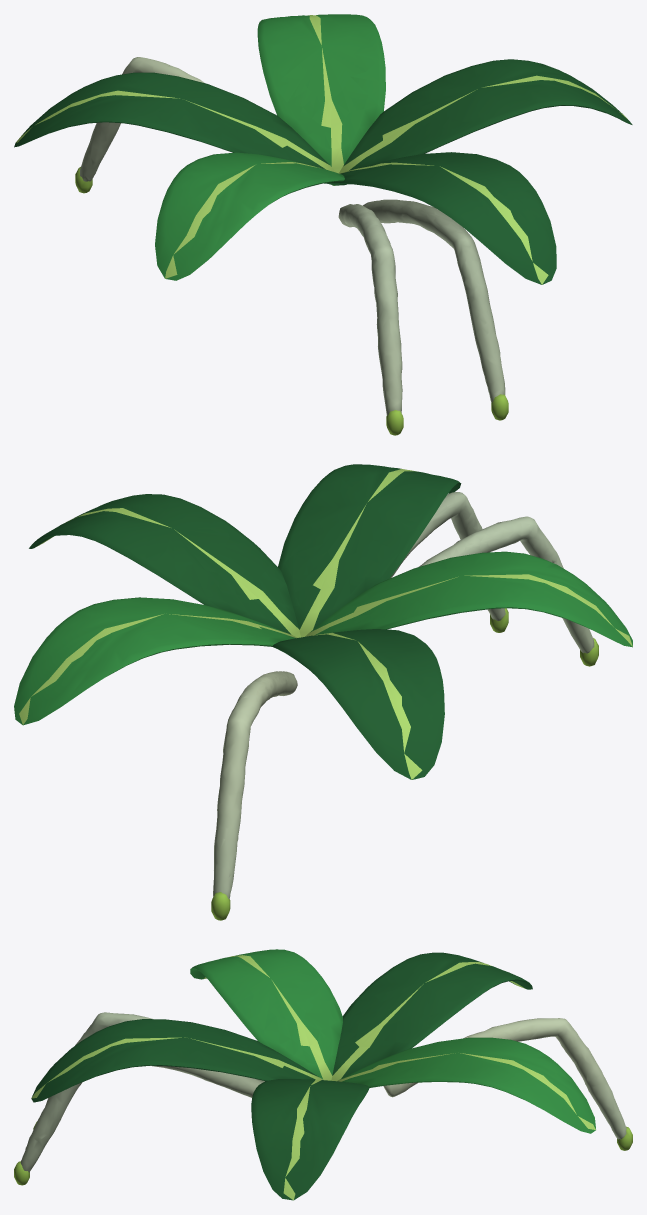
File: canopy_orchid_leaves.glb
The picture shows the model from 3 angles, top to bottom: view 1: azimuth 30°, elevation 25°; view 2: azimuth 150°, elevation 25°; view 3: azimuth 270°, elevation 25°; orthographic projection. The views are drawn at different scales.
Parts seen in each view (by area): view 1: canopy_orchid_leaves; view 2: canopy_orchid_leaves; view 3: canopy_orchid_leaves.
Part boxes in pixels (x1,y1,x2,y2): canopy_orchid_leaves: (14,14,632,435); canopy_orchid_leaves: (14,464,632,920); canopy_orchid_leaves: (14,949,632,1200).
Bounding box in the file's own units: 13.66 × 4.66 × 16.04.
